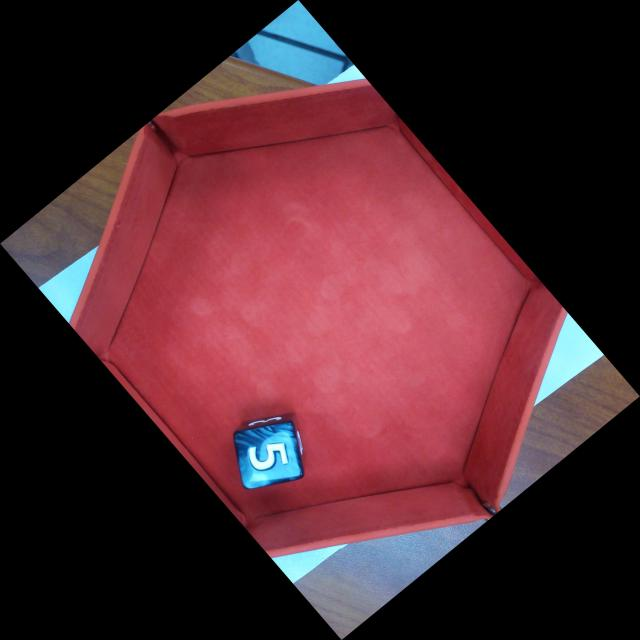dice: (232, 419, 306, 491)
